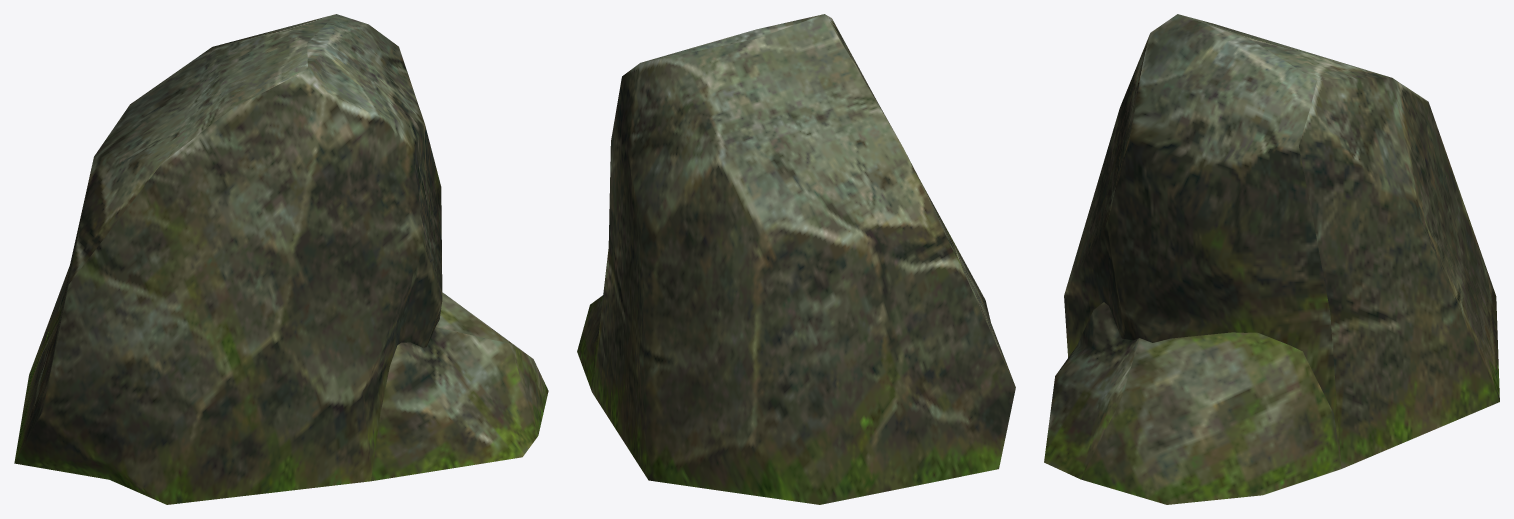
Rendered from cmc_shitou05.FBX.
3 renders of one model, left to right at view 1: azimuth 30°, elevation 25°; view 2: azimuth 150°, elevation 25°; view 3: azimuth 270°, elevation 25°, orthographic. The views are drawn at different scales.
Visible parts, largest first — view 1: cmc_shitou05; view 2: cmc_shitou05; view 3: cmc_shitou05.
Boxes of the visible parts, bbox=[...] form: cmc_shitou05: bbox=[14, 14, 548, 504]; cmc_shitou05: bbox=[577, 14, 1015, 504]; cmc_shitou05: bbox=[1044, 14, 1499, 504].
Bounding box in the file's own units: 226 × 172 × 188.
